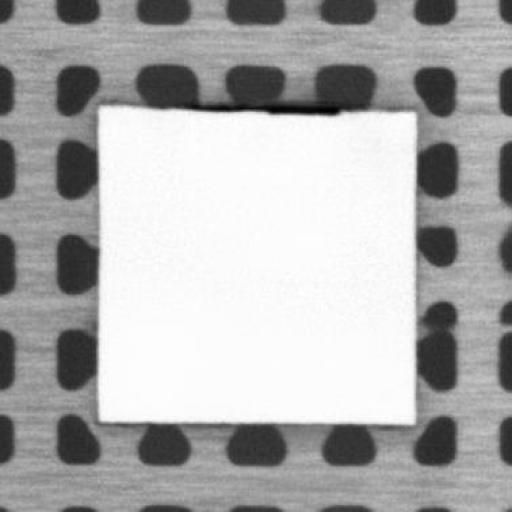DIE_BROKEN: (190, 98, 340, 116)
